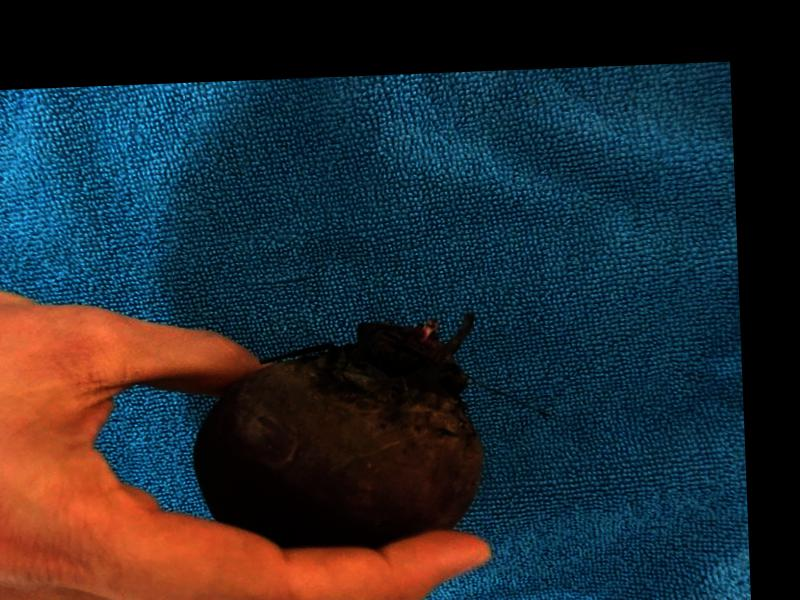Beet: (191, 314, 485, 551)
